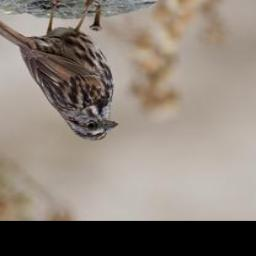Sparrow: (0, 0, 119, 145)
